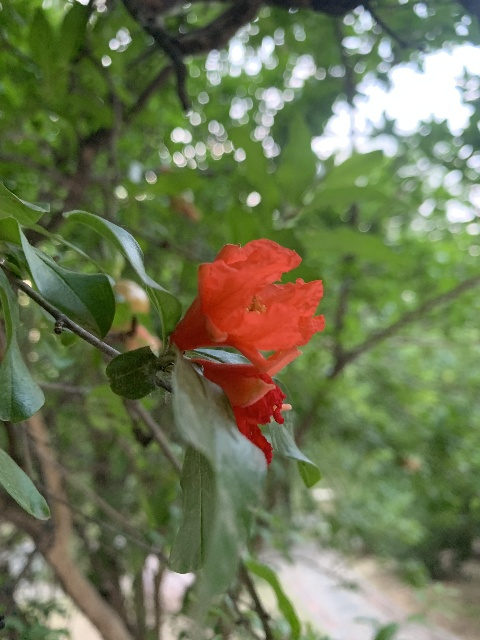flower: (171, 239, 324, 369), (189, 346, 302, 465)
mid-growth: (112, 278, 163, 353)
